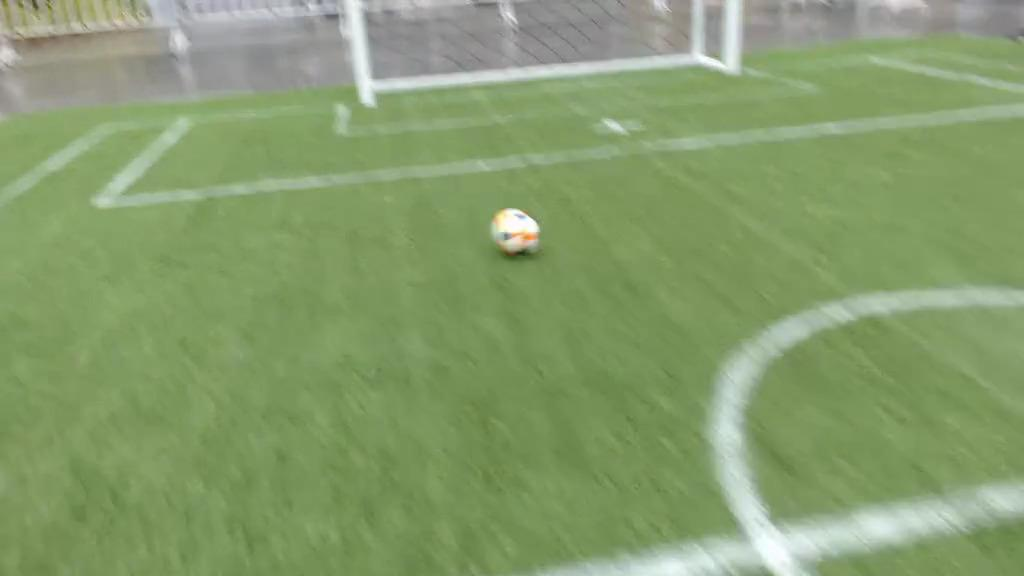ball: (492, 207, 540, 257)
